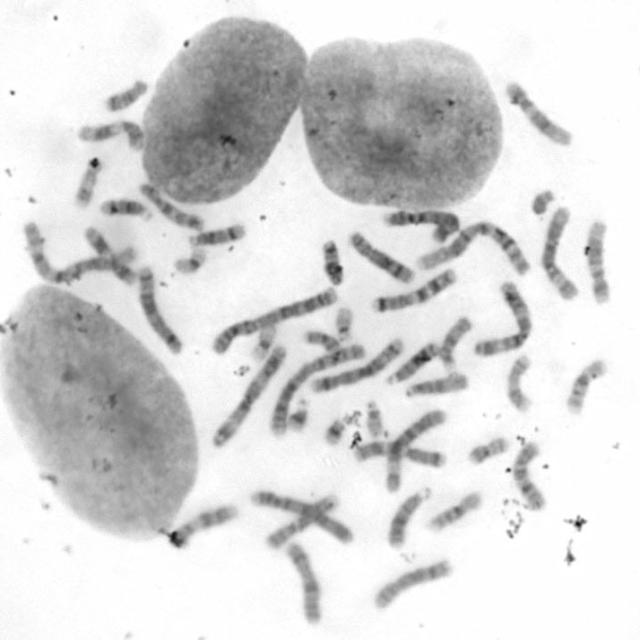A1: (18, 217, 139, 286), (412, 218, 530, 276)
A2: (208, 285, 338, 355), (269, 342, 365, 436)
A3: (207, 339, 290, 449), (470, 276, 533, 358)
B4: (247, 483, 354, 546), (378, 206, 462, 243)
B5: (308, 334, 406, 393), (134, 262, 186, 355)
C10: (135, 178, 207, 232), (508, 438, 550, 511)
C11: (79, 221, 137, 286), (74, 115, 147, 152)
C12: (500, 75, 576, 148), (582, 216, 613, 305)
C6: (380, 404, 447, 495), (536, 202, 581, 301)
C7: (367, 264, 459, 314), (350, 436, 448, 469)
C8: (370, 554, 456, 612), (345, 226, 418, 285)
C9: (257, 486, 347, 550), (165, 499, 240, 548)
D13: (384, 483, 434, 551), (382, 336, 440, 387)
D14: (184, 218, 247, 248), (96, 194, 155, 223)
D15: (436, 311, 474, 373), (400, 368, 470, 398)
E16: (563, 354, 609, 415), (425, 487, 485, 532)
E17: (501, 349, 536, 414), (69, 152, 104, 210)
E18: (101, 74, 149, 113), (318, 235, 345, 287)
F19: (245, 318, 278, 362), (170, 243, 209, 276)
F20: (463, 432, 512, 466), (302, 325, 342, 354)
G21: (283, 395, 310, 433), (319, 413, 347, 447)
G22: (331, 301, 357, 343), (363, 397, 384, 438)
X: (282, 537, 324, 625)
Y: (526, 184, 556, 216)
